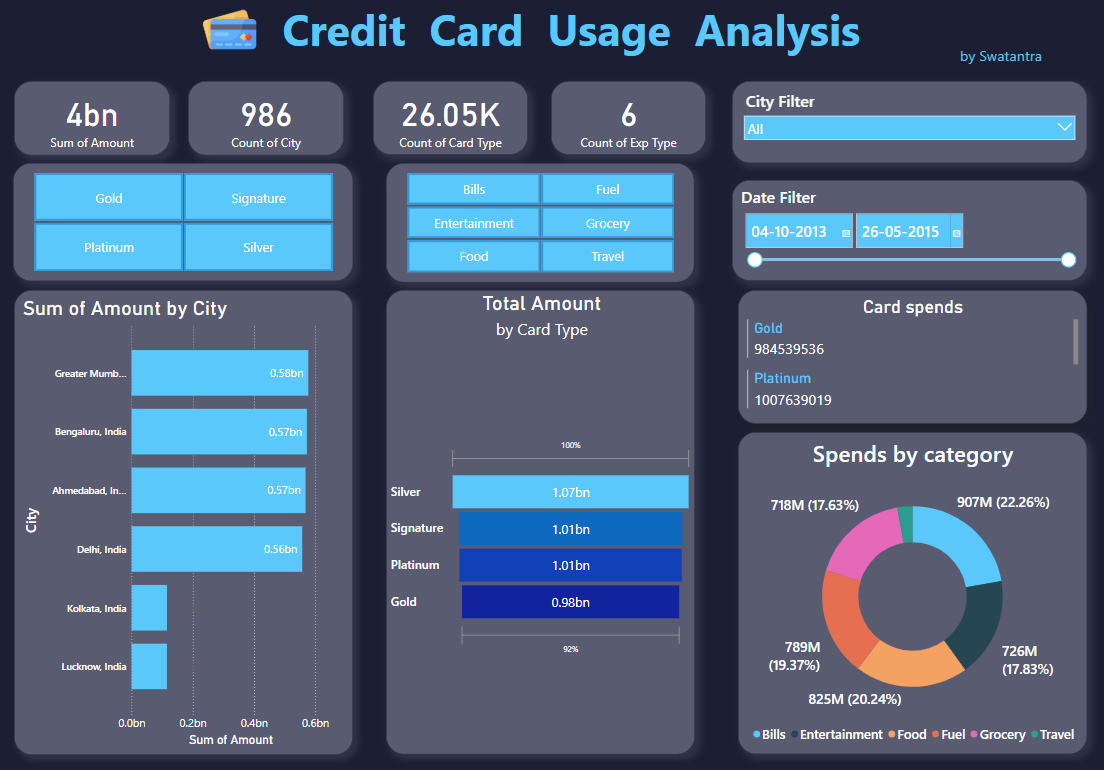

The page's visual inventory and layout, read from the dashboard file:
{"tool":"powerbi","page":{"name":"Duplicate of Page 1","canvas":[1850,1300],"ordinal":1},"visuals":[{"type":"textbox","title":"Credit   Card   Usage   Analysis","box":[9.6,0,1841.1,112.1],"z":0},{"type":"card","fields":{"Values":["Sum(Credit card transactions - India - Simple.Amount)"]},"box":[30,141,260.2,124.2],"z":1000},{"type":"card","fields":{"Values":["Count(Credit card transactions - India - Simple.City)"]},"box":[320.6,141,260.2,124.2],"z":2000},{"type":"card","fields":{"Values":["CountNonNull(Credit card transactions - India - Simple.Card Type)"]},"box":[628.3,141.7,258.3,123.3],"z":3000},{"type":"donutChart","title":"Spends by category","fields":{"Y":["Sum(Credit card transactions - India - Simple.Amount)"],"Series":["Credit card transactions - India - Simple.Exp Type"]},"box":[1236.7,726.7,581.7,536.7],"z":4000},{"type":"clusteredBarChart","fields":{"Category":["Credit card transactions - India - Simple.City"],"Y":["Sum(Credit card transactions - India - Simple.Amount)"]},"box":[30.4,489.9,565.1,774.9],"z":5000},{"type":"funnel","title":"Total Amount","fields":{"Y":["Sum(Credit card transactions - India - Simple.Amount)"],"Category":["Credit card transactions - India - Simple.Card Type"]},"box":[649.7,490.2,515.4,773.9],"z":6000},{"type":"multiRowCard","title":"Card spends","fields":{"Values":["Credit card transactions - India - Simple.Card Type","Sum(Credit card transactions - India - Simple.Amount)"]},"box":[1236.7,490,581.7,223.3],"z":7000},{"type":"slicer","fields":{"Values":["Credit card transactions - India - Simple.Card Type"]},"box":[28.8,278.6,566.7,196.9],"z":8000},{"type":"slicer","title":"Date Filter","fields":{"Values":["Credit card transactions - India - Simple.Date"]},"box":[1226.4,307.4,592.4,168.1],"z":9000},{"type":"slicer","fields":{"Values":["Credit card transactions - India - Simple.Exp Type"]},"box":[650,278.6,513.9,198.5],"z":10000},{"type":"slicer","fields":{"Values":["Credit card transactions - India - Simple.City"]},"box":[1226.7,141.7,591.7,136.7],"z":11000},{"type":"card","fields":{"Values":["Count(Credit card transactions - India - Simple.Exp Type)"]},"box":[925,141.7,258.3,123.3],"z":12000},{"type":"image","box":[198.5,0,382.6,112.1],"z":13000},{"type":"textbox","box":[1601,76.8,227.3,51.2],"z":14000}]}

Visuals, with their boxes in screenshot pixels (x1, y1, x2, y2), scaled from the page's 1850x1300 canvas onto the 1104x770 screenshot:
"Credit   Card   Usage   Analysis" textbox: [6,0,1103,66]
card - Sum(Credit card transactions - India - Simple.Amount): [18,84,173,157]
card - Count(Credit card transactions - India - Simple.City): [191,84,347,157]
card - CountNonNull(Credit card transactions - India - Simple.Card Type): [375,84,529,157]
"Spends by category" donutChart: [738,430,1085,748]
clusteredBarChart - Credit card transactions - India - Simple.City x Sum(Credit card transactions - India - Simple.Amount): [18,290,355,749]
"Total Amount" funnel: [388,290,695,749]
"Card spends" multiRowCard: [738,290,1085,422]
slicer - Credit card transactions - India - Simple.Card Type: [17,165,355,282]
"Date Filter" slicer: [732,182,1085,282]
slicer - Credit card transactions - India - Simple.Exp Type: [388,165,695,283]
slicer - Credit card transactions - India - Simple.City: [732,84,1085,165]
card - Count(Credit card transactions - India - Simple.Exp Type): [552,84,706,157]
image: [118,0,347,66]
textbox: [955,45,1091,76]
